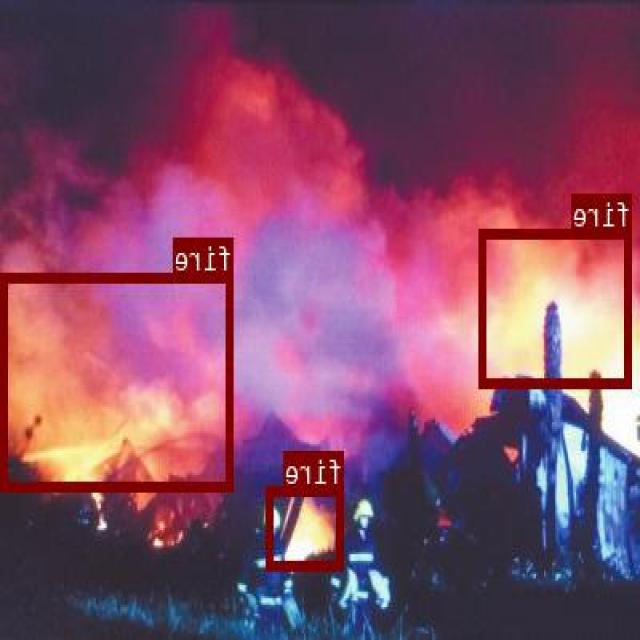fire: (3, 272, 235, 488), (481, 227, 634, 385), (268, 485, 346, 569)
